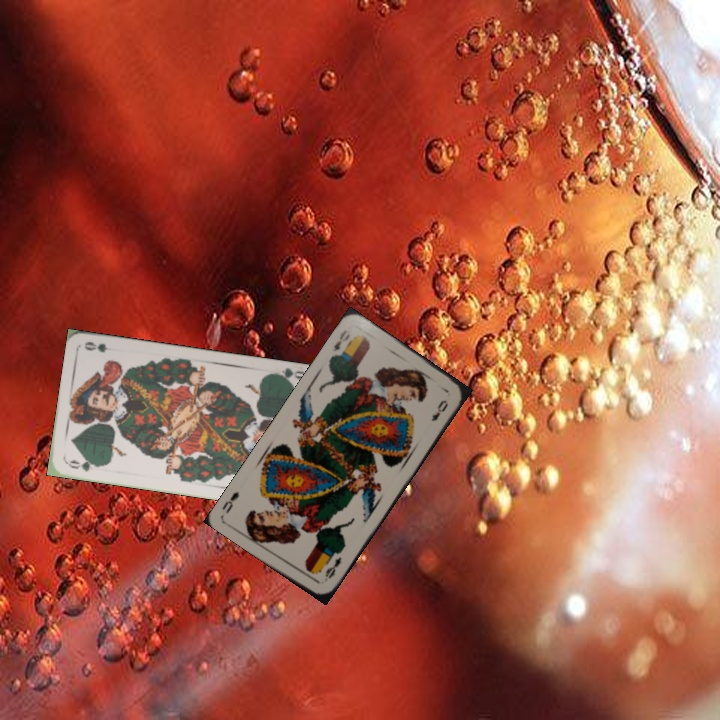EO: (320, 553, 344, 585), (328, 326, 353, 354)
GO: (266, 364, 308, 384), (63, 456, 104, 474)
